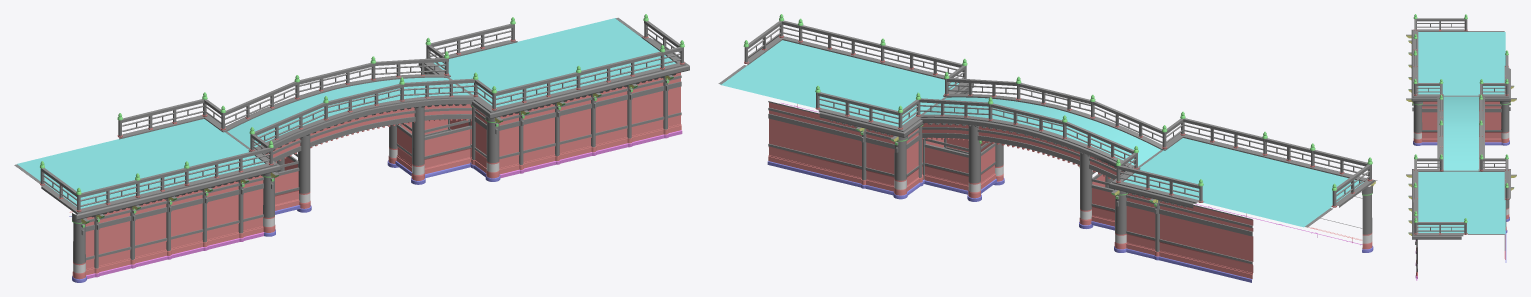
Rendered from SM_ENV_KNVLLG03_Bridge_Bridge.gltf.
The picture shows the model from 3 angles, left to right: view 1: azimuth 30°, elevation 25°; view 2: azimuth 150°, elevation 25°; view 3: azimuth 270°, elevation 25°; orthographic projection. The views are drawn at different scales.
Visible parts, largest first — view 1: SM_ENV_KNVLLG03_Bridge_Bridge; view 2: SM_ENV_KNVLLG03_Bridge_Bridge; view 3: SM_ENV_KNVLLG03_Bridge_Bridge.
Boxes of the visible parts, x1,y1,x2,y2 form: SM_ENV_KNVLLG03_Bridge_Bridge: [14, 14, 689, 282]; SM_ENV_KNVLLG03_Bridge_Bridge: [718, 14, 1377, 282]; SM_ENV_KNVLLG03_Bridge_Bridge: [1406, 14, 1516, 280].
Bounding box in the file's own units: 55.46 × 9.57 × 12.56.
